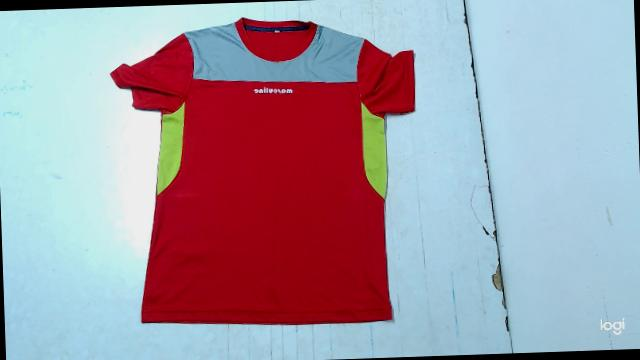new-garment: (111, 19, 415, 324)
